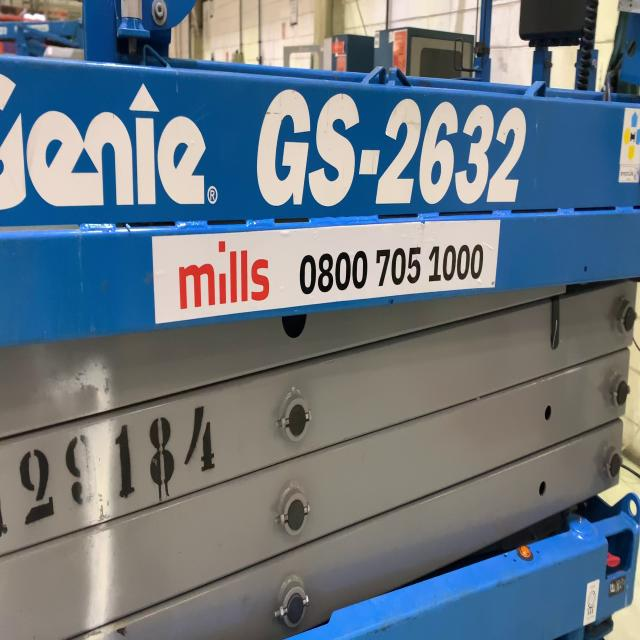Adesivo Longo: (150, 215, 502, 328)
